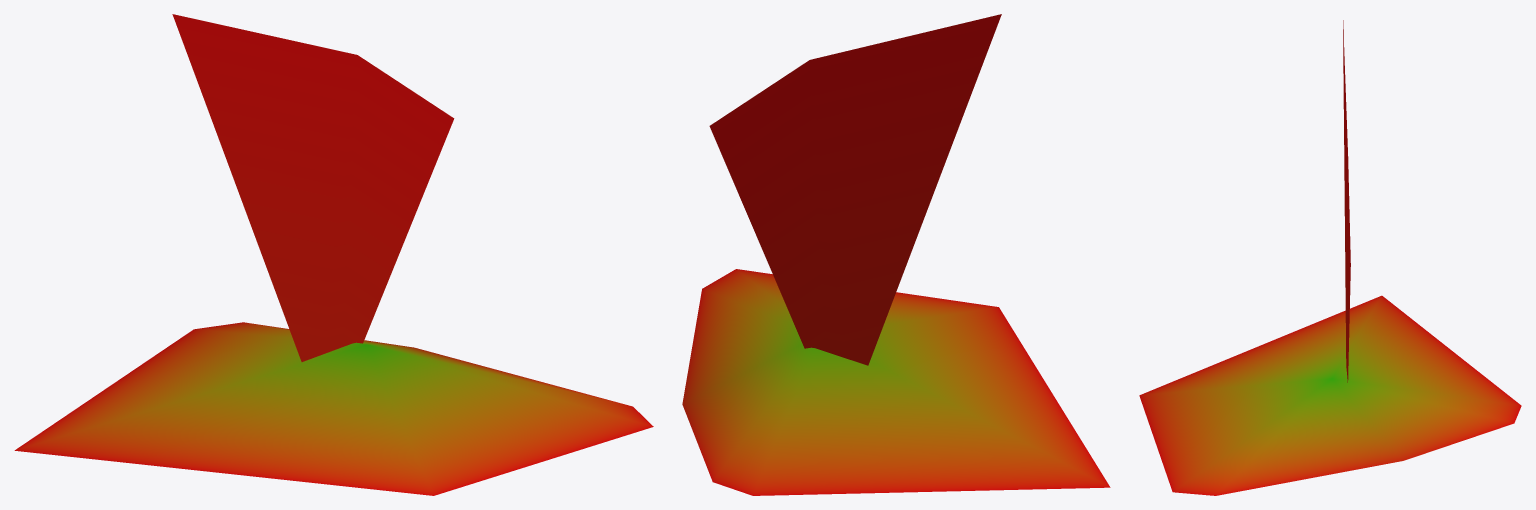
Rendered from Cape Weed_LOD4_Var5_tjmhfcyia.fbx.
The picture shows the model from 3 angles, left to right: view 1: azimuth 30°, elevation 25°; view 2: azimuth 150°, elevation 25°; view 3: azimuth 270°, elevation 25°; orthographic projection. The views are drawn at different scales.
Parts seen in each view (by area): view 1: _f356_Var5_LOD4; view 2: _f356_Var5_LOD4; view 3: _f356_Var5_LOD4.
Part boxes in pixels (x1=…): _f356_Var5_LOD4: x1=14, y1=14, x2=653, y2=495; _f356_Var5_LOD4: x1=682, y1=14, x2=1110, y2=495; _f356_Var5_LOD4: x1=1139, y1=20, x2=1521, y2=495.
Bounding box in the file's own units: 24.37 × 19.58 × 19.95.
